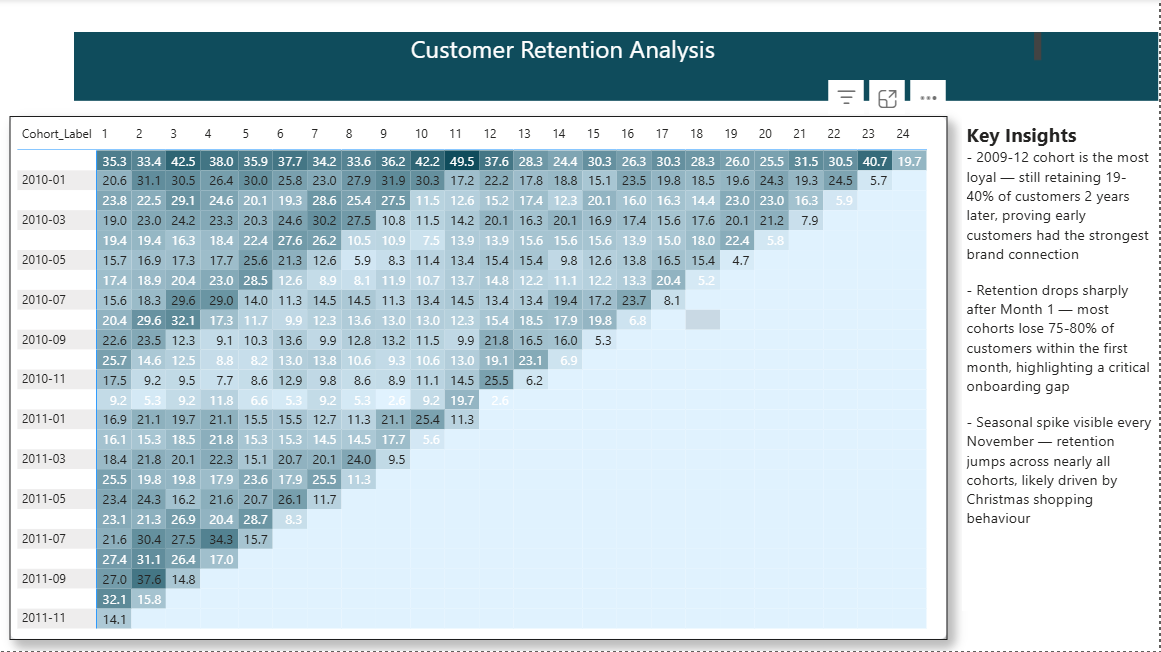

This screenshot's page, from the dashboard's own definition file:
{"tool":"powerbi","page":{"name":"Cohort Retention Analysis","canvas":[1280,720],"ordinal":2},"visuals":[{"type":"shape","box":[82.8,36.4,1197.6,76.2],"z":0},{"type":"textbox","box":[97.7,31.5,1058.5,43.1],"z":1000},{"type":"pivotTable","fields":{"Columns":["cohort_retention.Cohort_Index"],"Values":["Avg(cohort_retention.Retention_Percentage)"],"Rows":["cohort_retention.Cohort_Label"]},"box":[11.6,129.2,1035.3,578.1],"z":2000},{"type":"textbox","box":[1063.5,129.2,217,546.6],"z":2001}]}

Visuals, with their boxes in screenshot pixels (x1, y1, x2, y2), scaled from the page's 1280x720 canvas onto the 1161x652 screenshot:
shape: <bbox>75, 33, 1160, 102</bbox>
textbox: <bbox>89, 29, 1049, 68</bbox>
pivotTable - cohort_retention.Cohort_Index x Avg(cohort_retention.Retention_Percentage): <bbox>11, 117, 950, 640</bbox>
textbox: <bbox>965, 117, 1160, 612</bbox>
